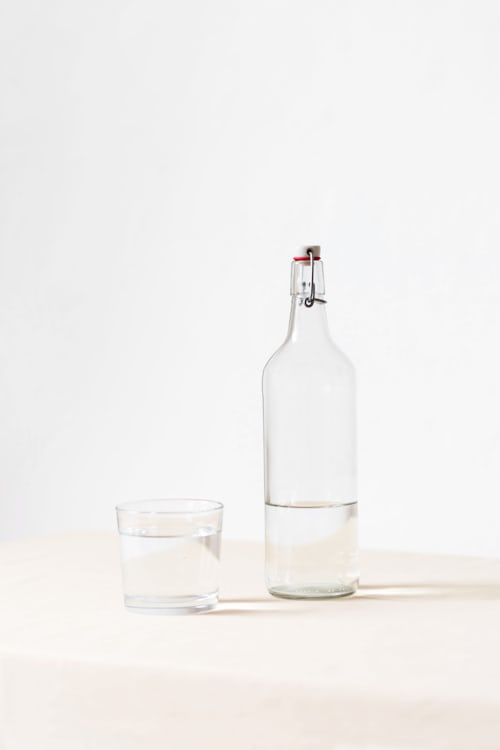Bottle: (256, 242, 392, 601)
Glass: (100, 490, 237, 625)
